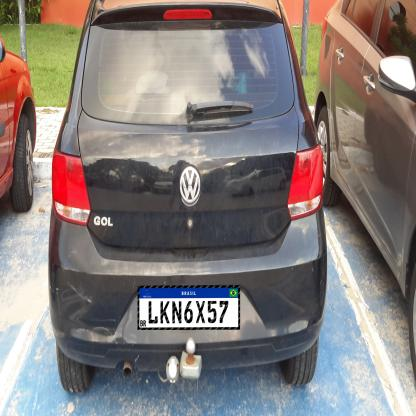PlacaM: (138, 285, 240, 330)
